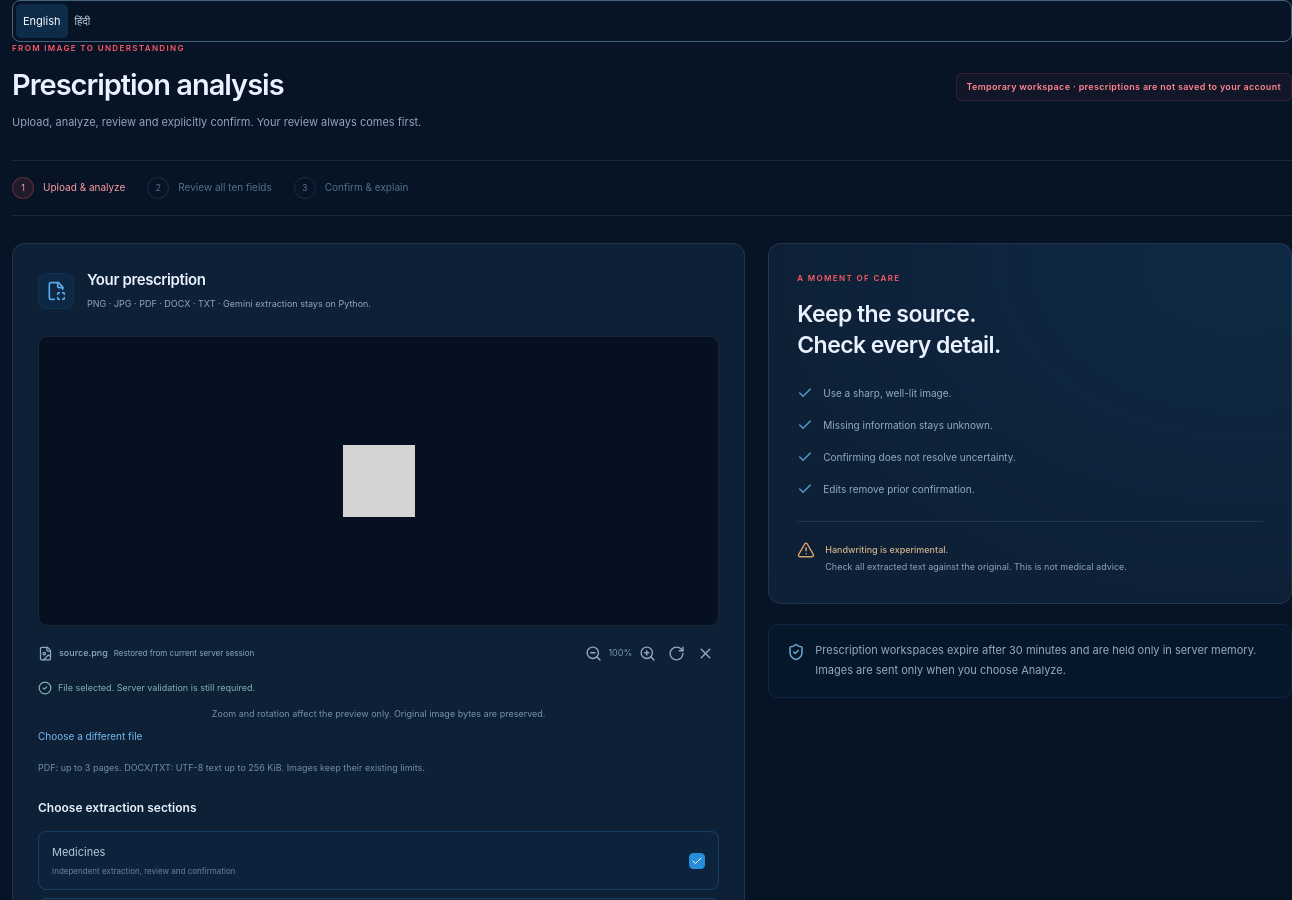
Test: translates every prescription step, upload guidance, field label, warnings and accessibility controls immediately
This screenshot has width=1292, height=900.
Click the button "हिंदी". click: {"x": 82, "y": 21}
box: [68,4,97,38]
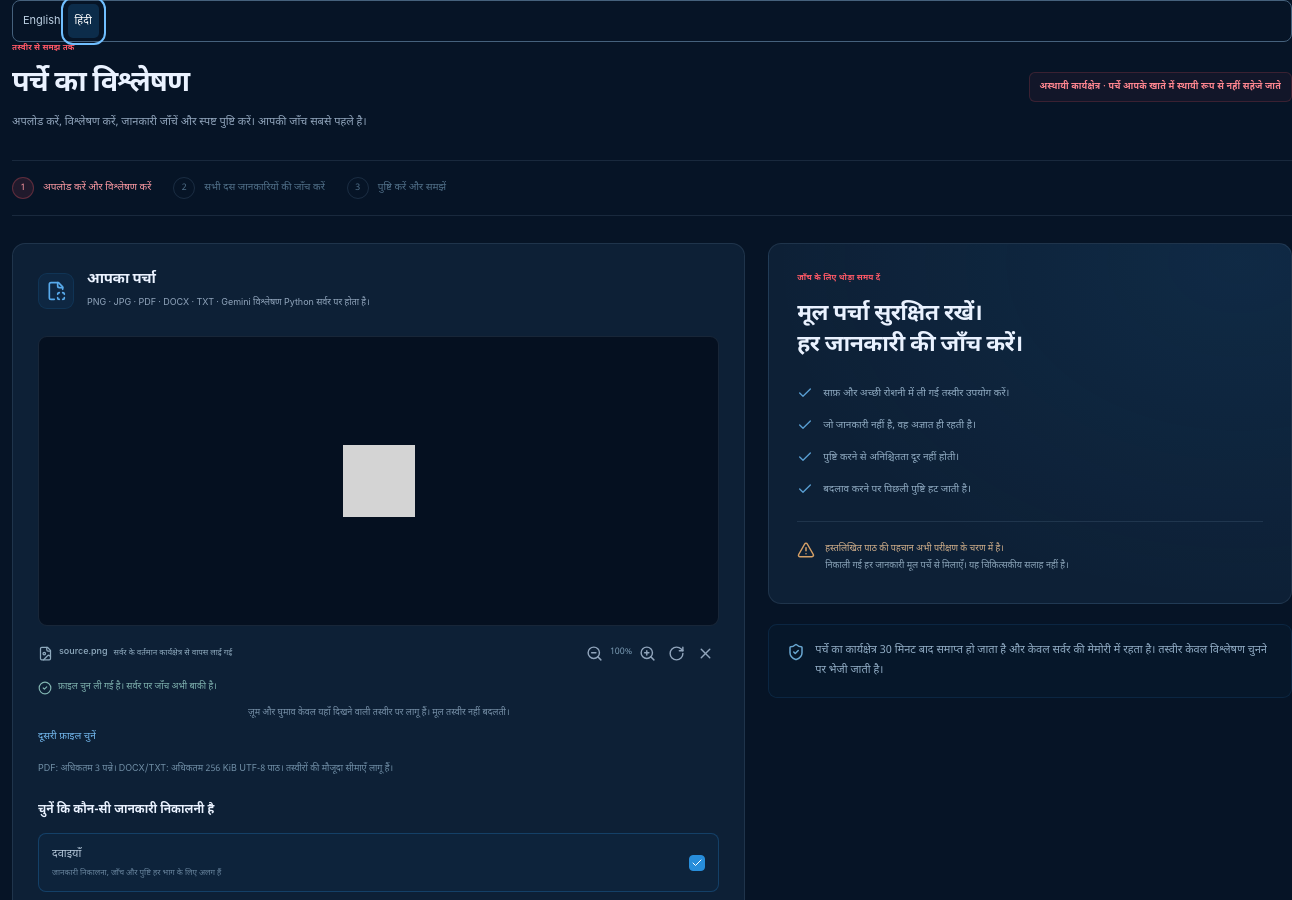
Result: the heading "पर्चे का विश्लेषण" is shown at [12,65,189,103]
Result: the text "अपलोड करें और विश्लेषण करें" is shown at [43,181,151,194]
Result: the text "सभी दस जानकारियों की जाँच करें" is shown at [204,181,325,194]
Click the button "English". click: {"x": 42, "y": 21}
box: [16,4,68,38]
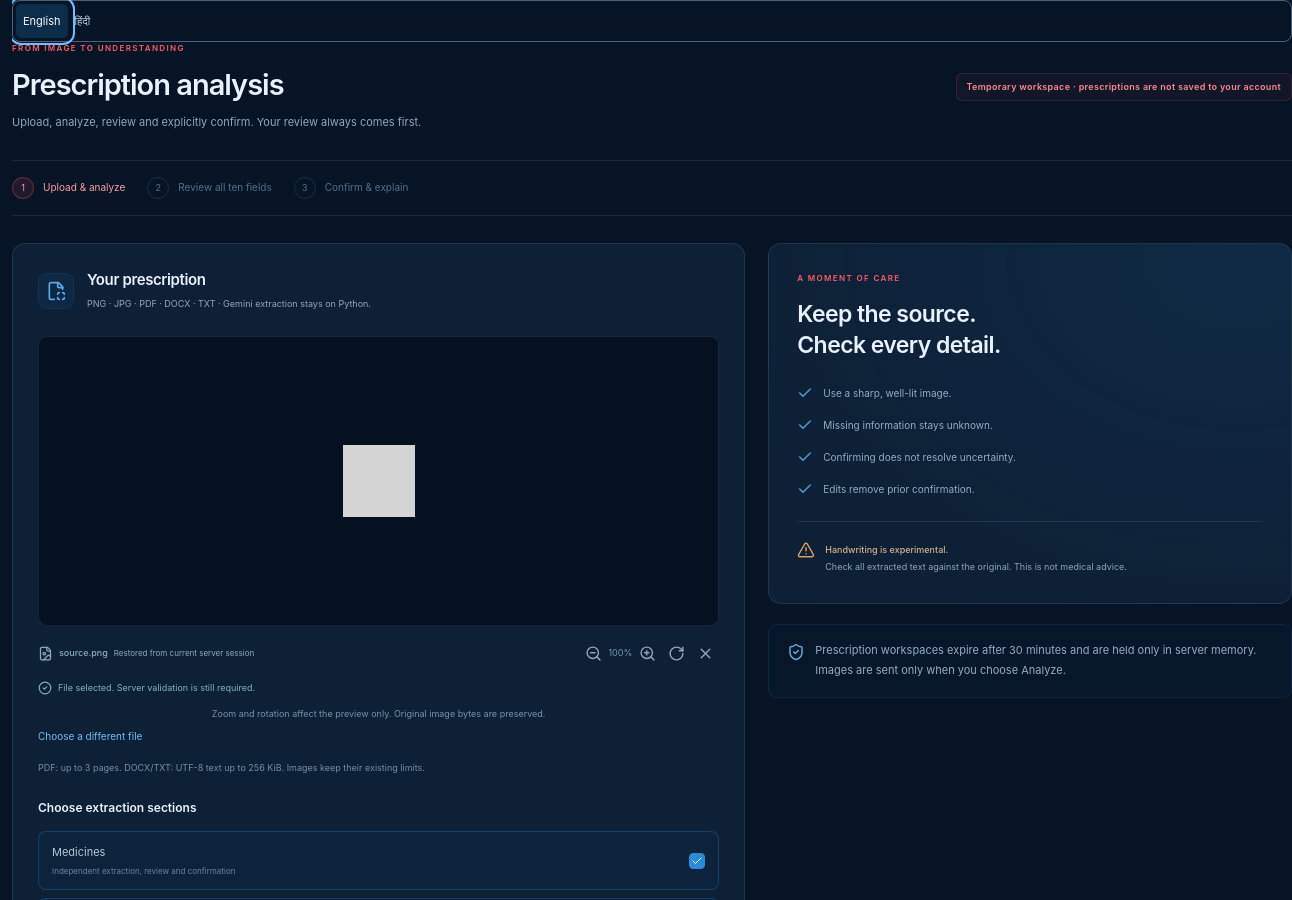
Result: the heading "Prescription analysis" is shown at [12,67,284,102]
